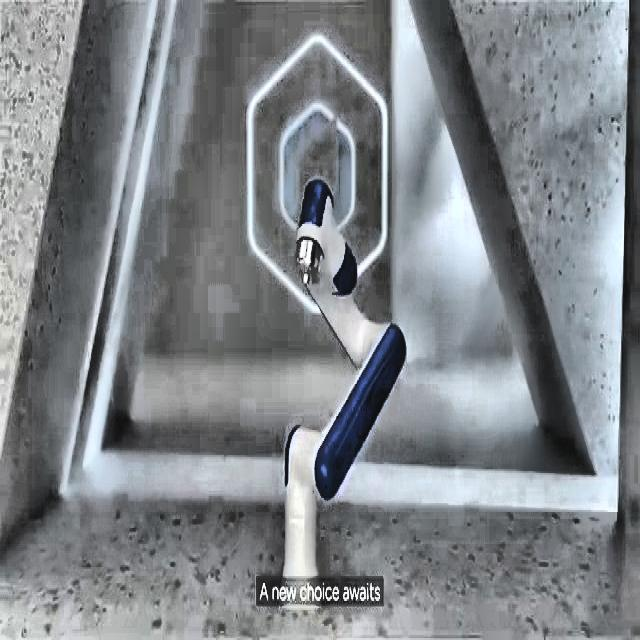robot: (278, 174, 406, 599)
